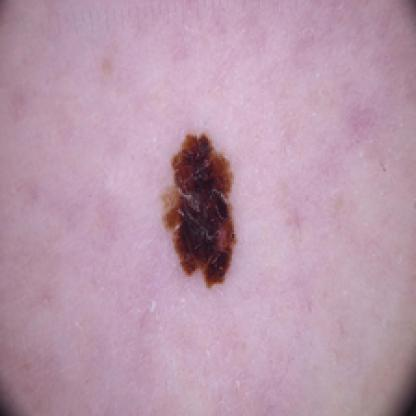Skin_Cancer-Malignant: (161, 132, 239, 288)
